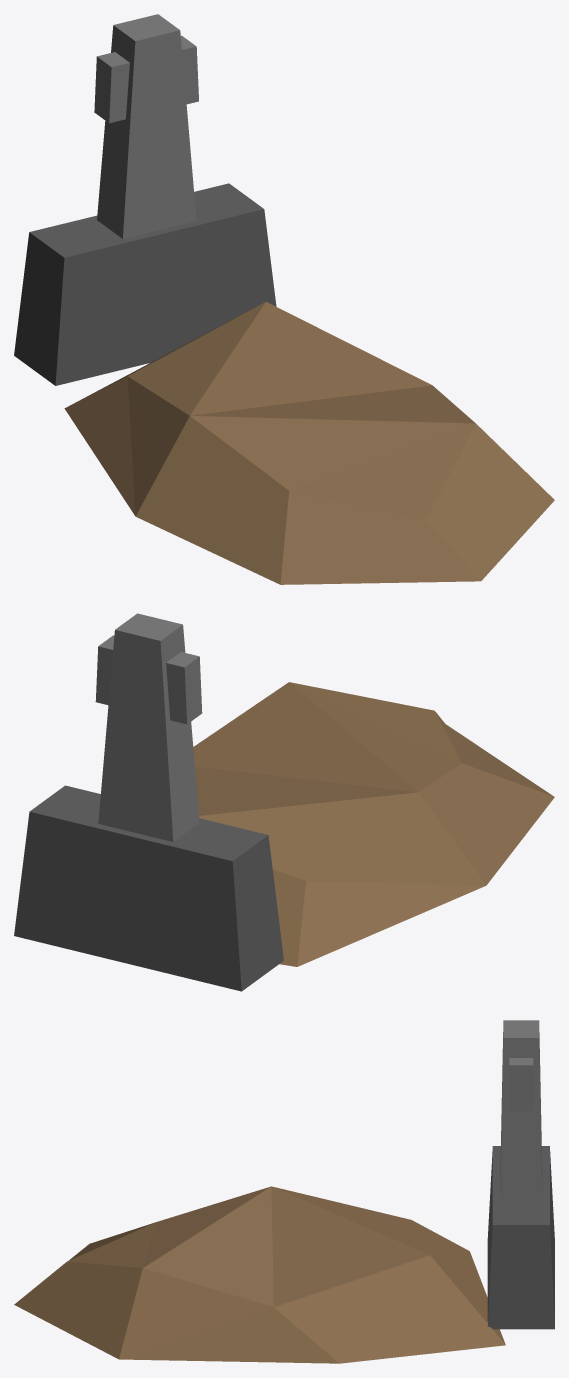
The model's file is DirtGrave.glb.
3 renders of one model, top to bottom at view 1: azimuth 30°, elevation 25°; view 2: azimuth 150°, elevation 25°; view 3: azimuth 270°, elevation 25°, orthographic. The views are drawn at different scales.
Visible parts, largest first — view 1: DirtGrave; view 2: DirtGrave; view 3: DirtGrave.
Part boxes in pixels (x1=…): DirtGrave: x1=14, y1=14, x2=554, y2=584; DirtGrave: x1=14, y1=613, x2=554, y2=991; DirtGrave: x1=14, y1=1020, x2=554, y2=1363.
Bounding box in the file's own units: 1.21 × 1.12 × 2.05.
1 material, 1 textured.
